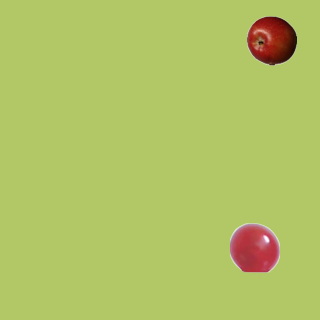Apple Braeburn: (246, 15, 296, 65)
Redcurrant: (229, 222, 279, 272)
